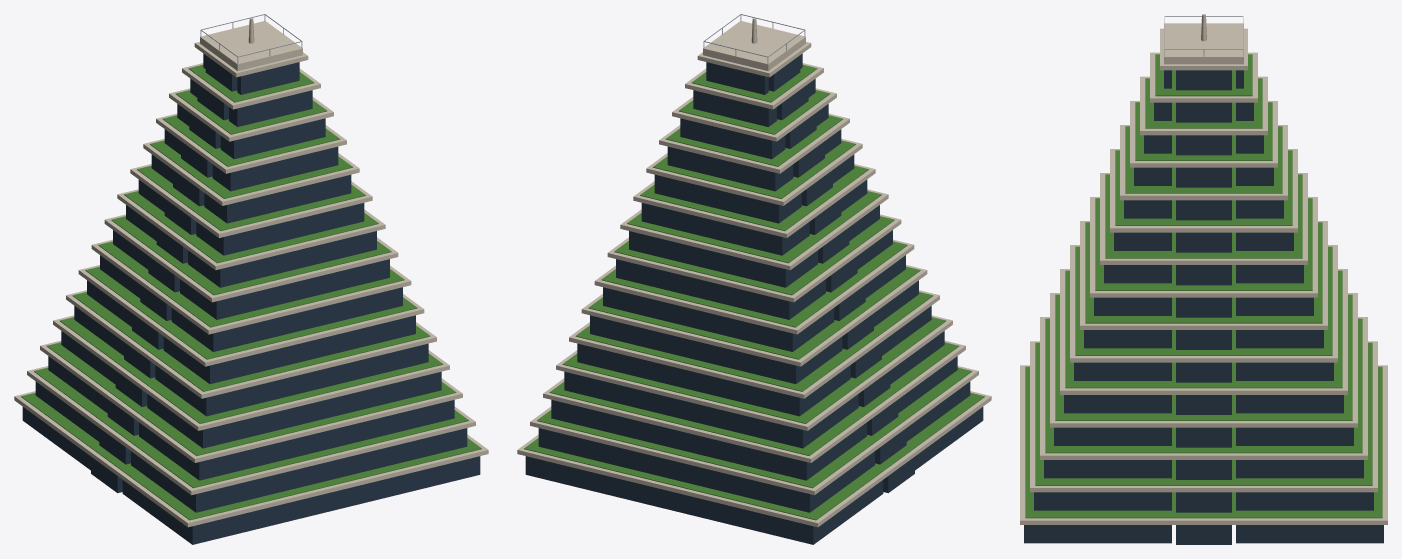
The model's file is plateau-pyramide.glb.
3 views of the same model, side by side, from view 1: azimuth 30°, elevation 25°; view 2: azimuth 150°, elevation 25°; view 3: azimuth 270°, elevation 25° (orthographic). The views are drawn at different scales.
Size of the model in its own units: 46 by 62.7 by 46.
